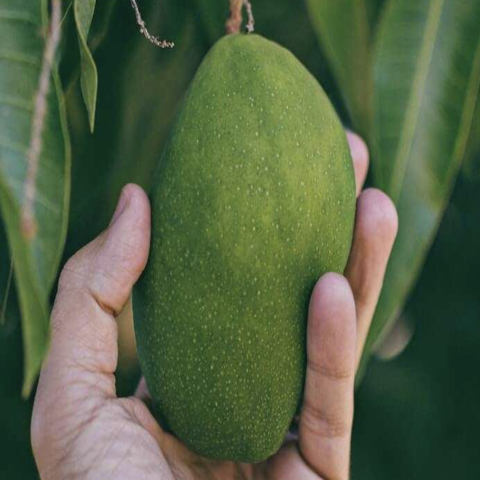mango: (91, 13, 428, 478)
